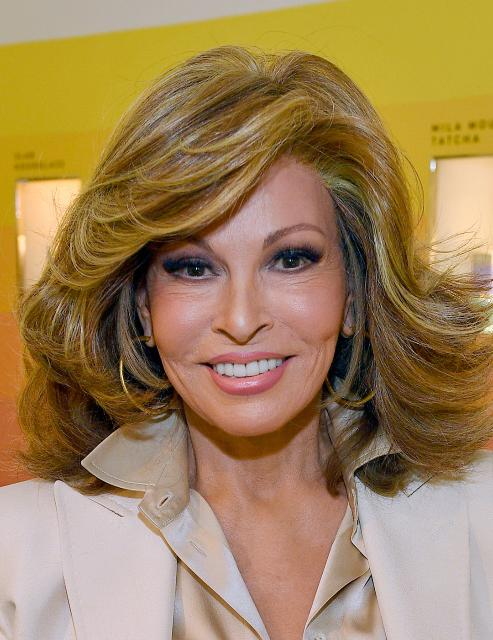crows_feet: (151, 270, 171, 290), (322, 254, 340, 274)
masseter: (163, 358, 193, 398), (311, 342, 331, 384)
smoker_lines: (222, 338, 264, 352)
